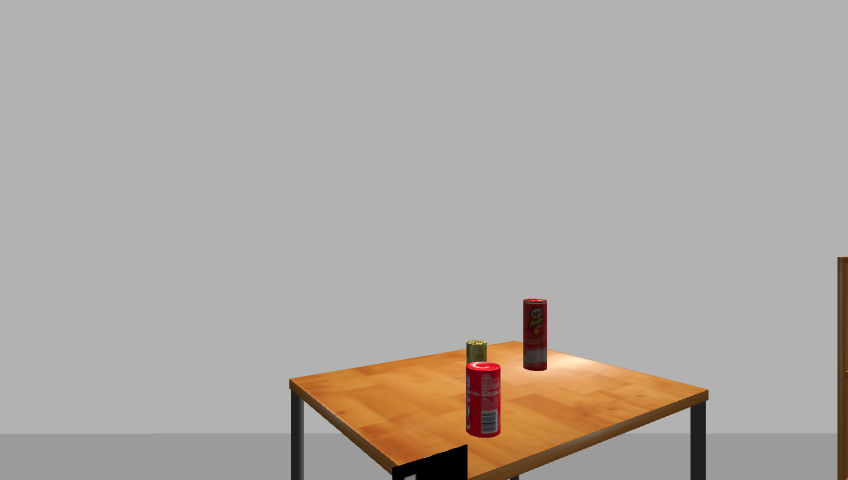aruco marker: (387, 444, 472, 480)
biscuits pack: (466, 339, 488, 369)
bookshelf: (833, 257, 848, 480)
coke can: (464, 362, 502, 438)
dinner table: (280, 343, 718, 480)
pringles can: (520, 298, 550, 373)
